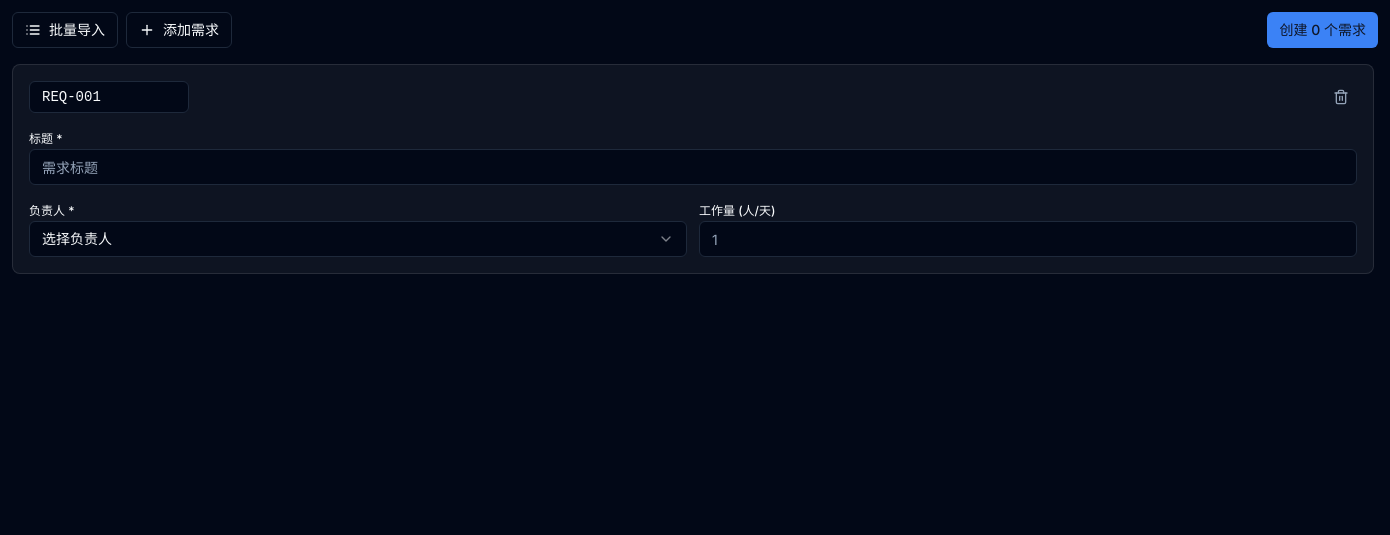
Test: CreateRequirementsStep › 有负责人状态 › 应该显示批量导入区域
What coordinates should you click on to do the following:
click the button "批量导入"
I would click on:
 (65, 30)
Its box is [12,12,118,48].
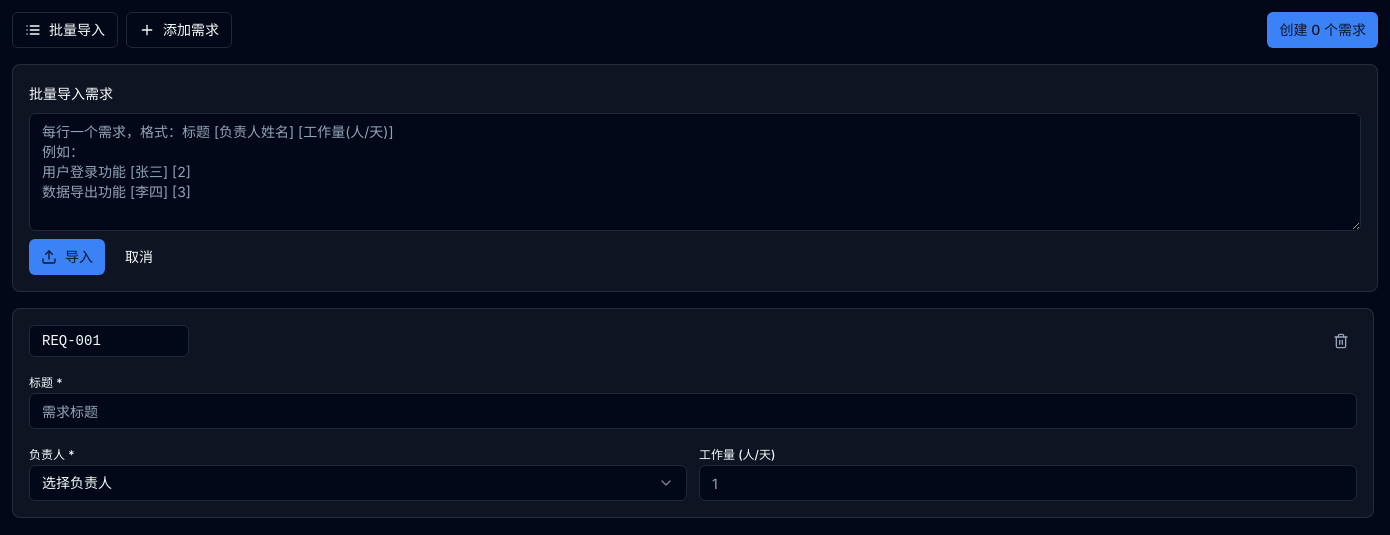
Now the text "批量导入需求" is shown, box [29,85,113,102]
Now the text box with placeholder "每行一个需求" is shown, box [29,113,1361,231]
